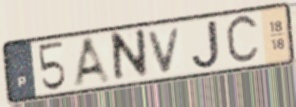5: (36, 39, 66, 93)
A: (71, 34, 115, 88)
C: (223, 11, 262, 68)
J: (189, 18, 222, 72)
N: (112, 26, 150, 86)
V: (146, 24, 184, 75)
